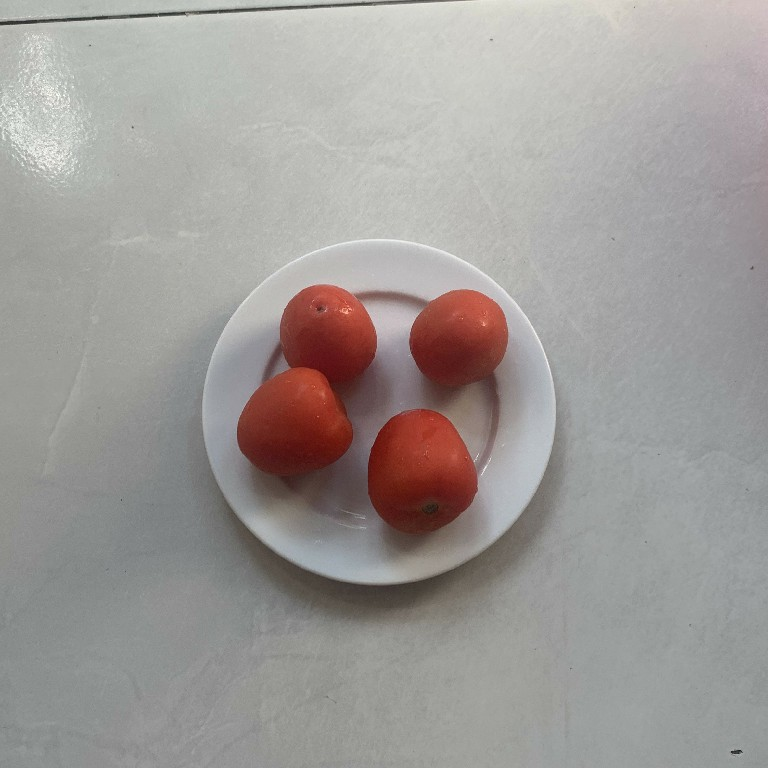OK: (363, 399, 483, 542), (229, 366, 353, 480), (407, 286, 513, 393), (274, 283, 376, 384)
